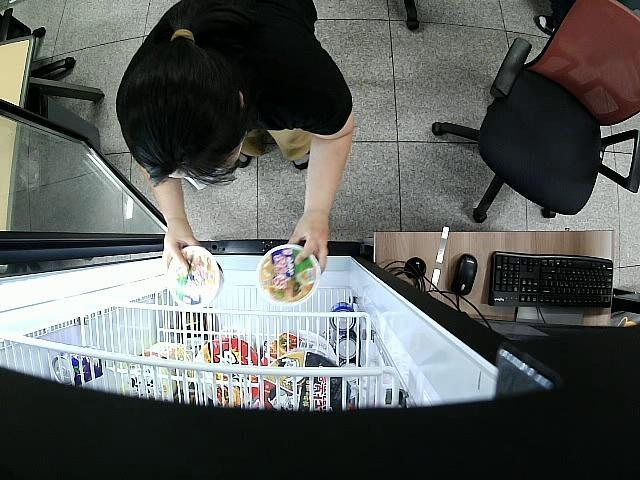09_yukGaeJang: (254, 248, 321, 306), (164, 246, 224, 308)
